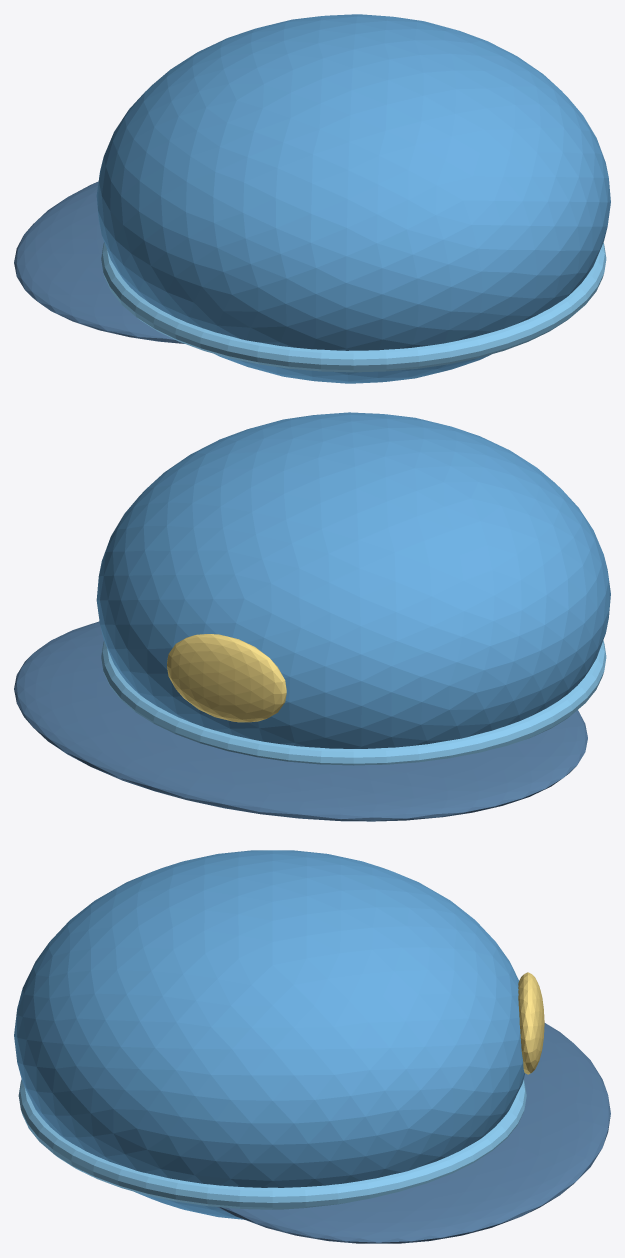
The model's file is classic_cap.glb.
The picture shows the model from 3 angles, top to bottom: view 1: azimuth 30°, elevation 25°; view 2: azimuth 150°, elevation 25°; view 3: azimuth 270°, elevation 25°; orthographic projection.
Parts seen in each view (by area): view 1: classic_cap_0, classic_cap_2, classic_cap_1; view 2: classic_cap_0, classic_cap_1, classic_cap_2, classic_cap_3; view 3: classic_cap_0, classic_cap_1, classic_cap_2, classic_cap_3.
Part boxes in pixels (left/top/right/bottom): classic_cap_0: left=96, top=14, right=610, bottom=383; classic_cap_2: left=101, top=242, right=606, bottom=372; classic_cap_1: left=14, top=181, right=184, bottom=343; classic_cap_0: left=96, top=412, right=610, bottom=748; classic_cap_1: left=14, top=621, right=587, bottom=821; classic_cap_2: left=101, top=640, right=606, bottom=765; classic_cap_3: left=167, top=634, right=286, bottom=722; classic_cap_0: left=14, top=850, right=525, bottom=1219; classic_cap_1: left=217, top=1023, right=610, bottom=1243; classic_cap_2: left=18, top=1079, right=526, bottom=1209; classic_cap_3: left=518, top=972, right=544, bottom=1074.
Size of the model in its own units: 0.92 by 0.5 by 0.9.
